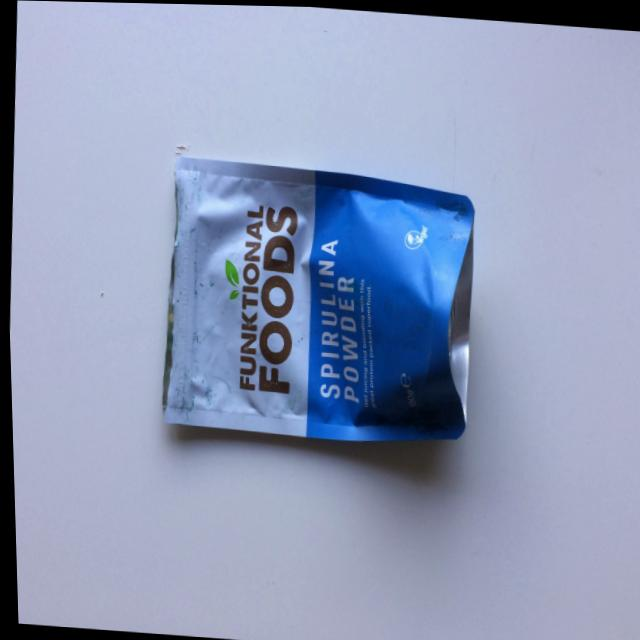Plastic: (132, 141, 498, 467)
